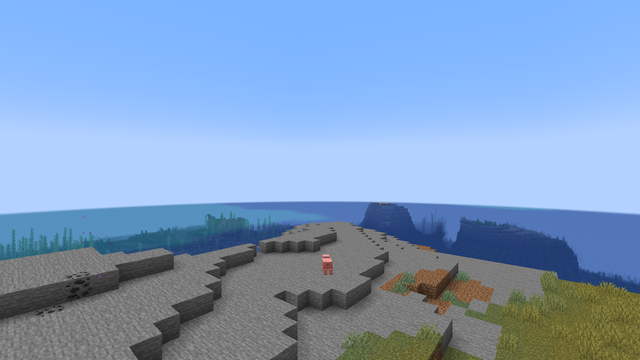cochons: (318, 256, 335, 274)
